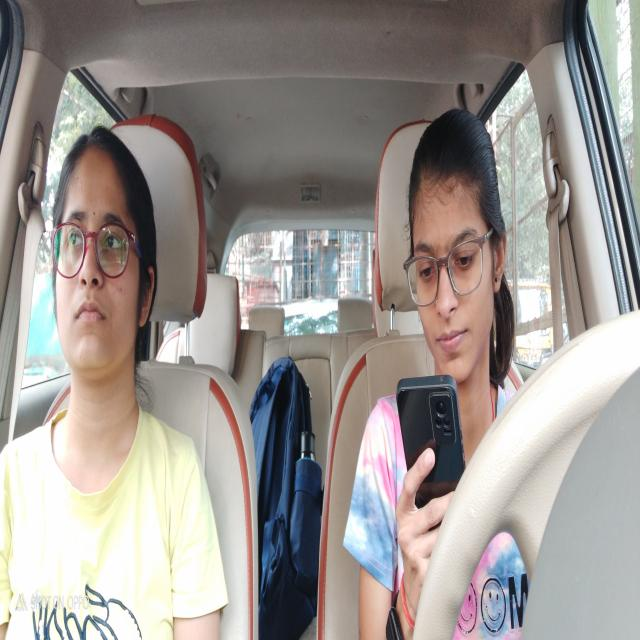mobile: (391, 369, 477, 530)
person: (400, 107, 508, 386), (48, 128, 153, 390)
